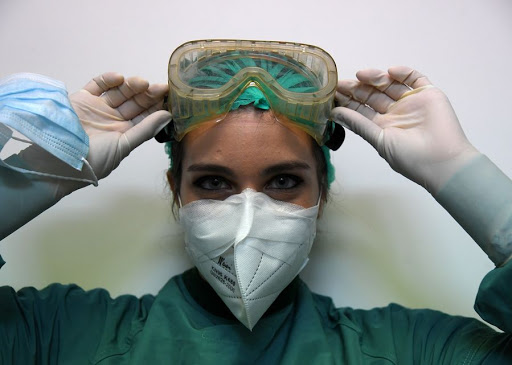Gloves: (333, 56, 479, 191), (49, 64, 174, 184)
Goggles: (160, 36, 345, 139)
with_mask: (171, 170, 322, 331)
